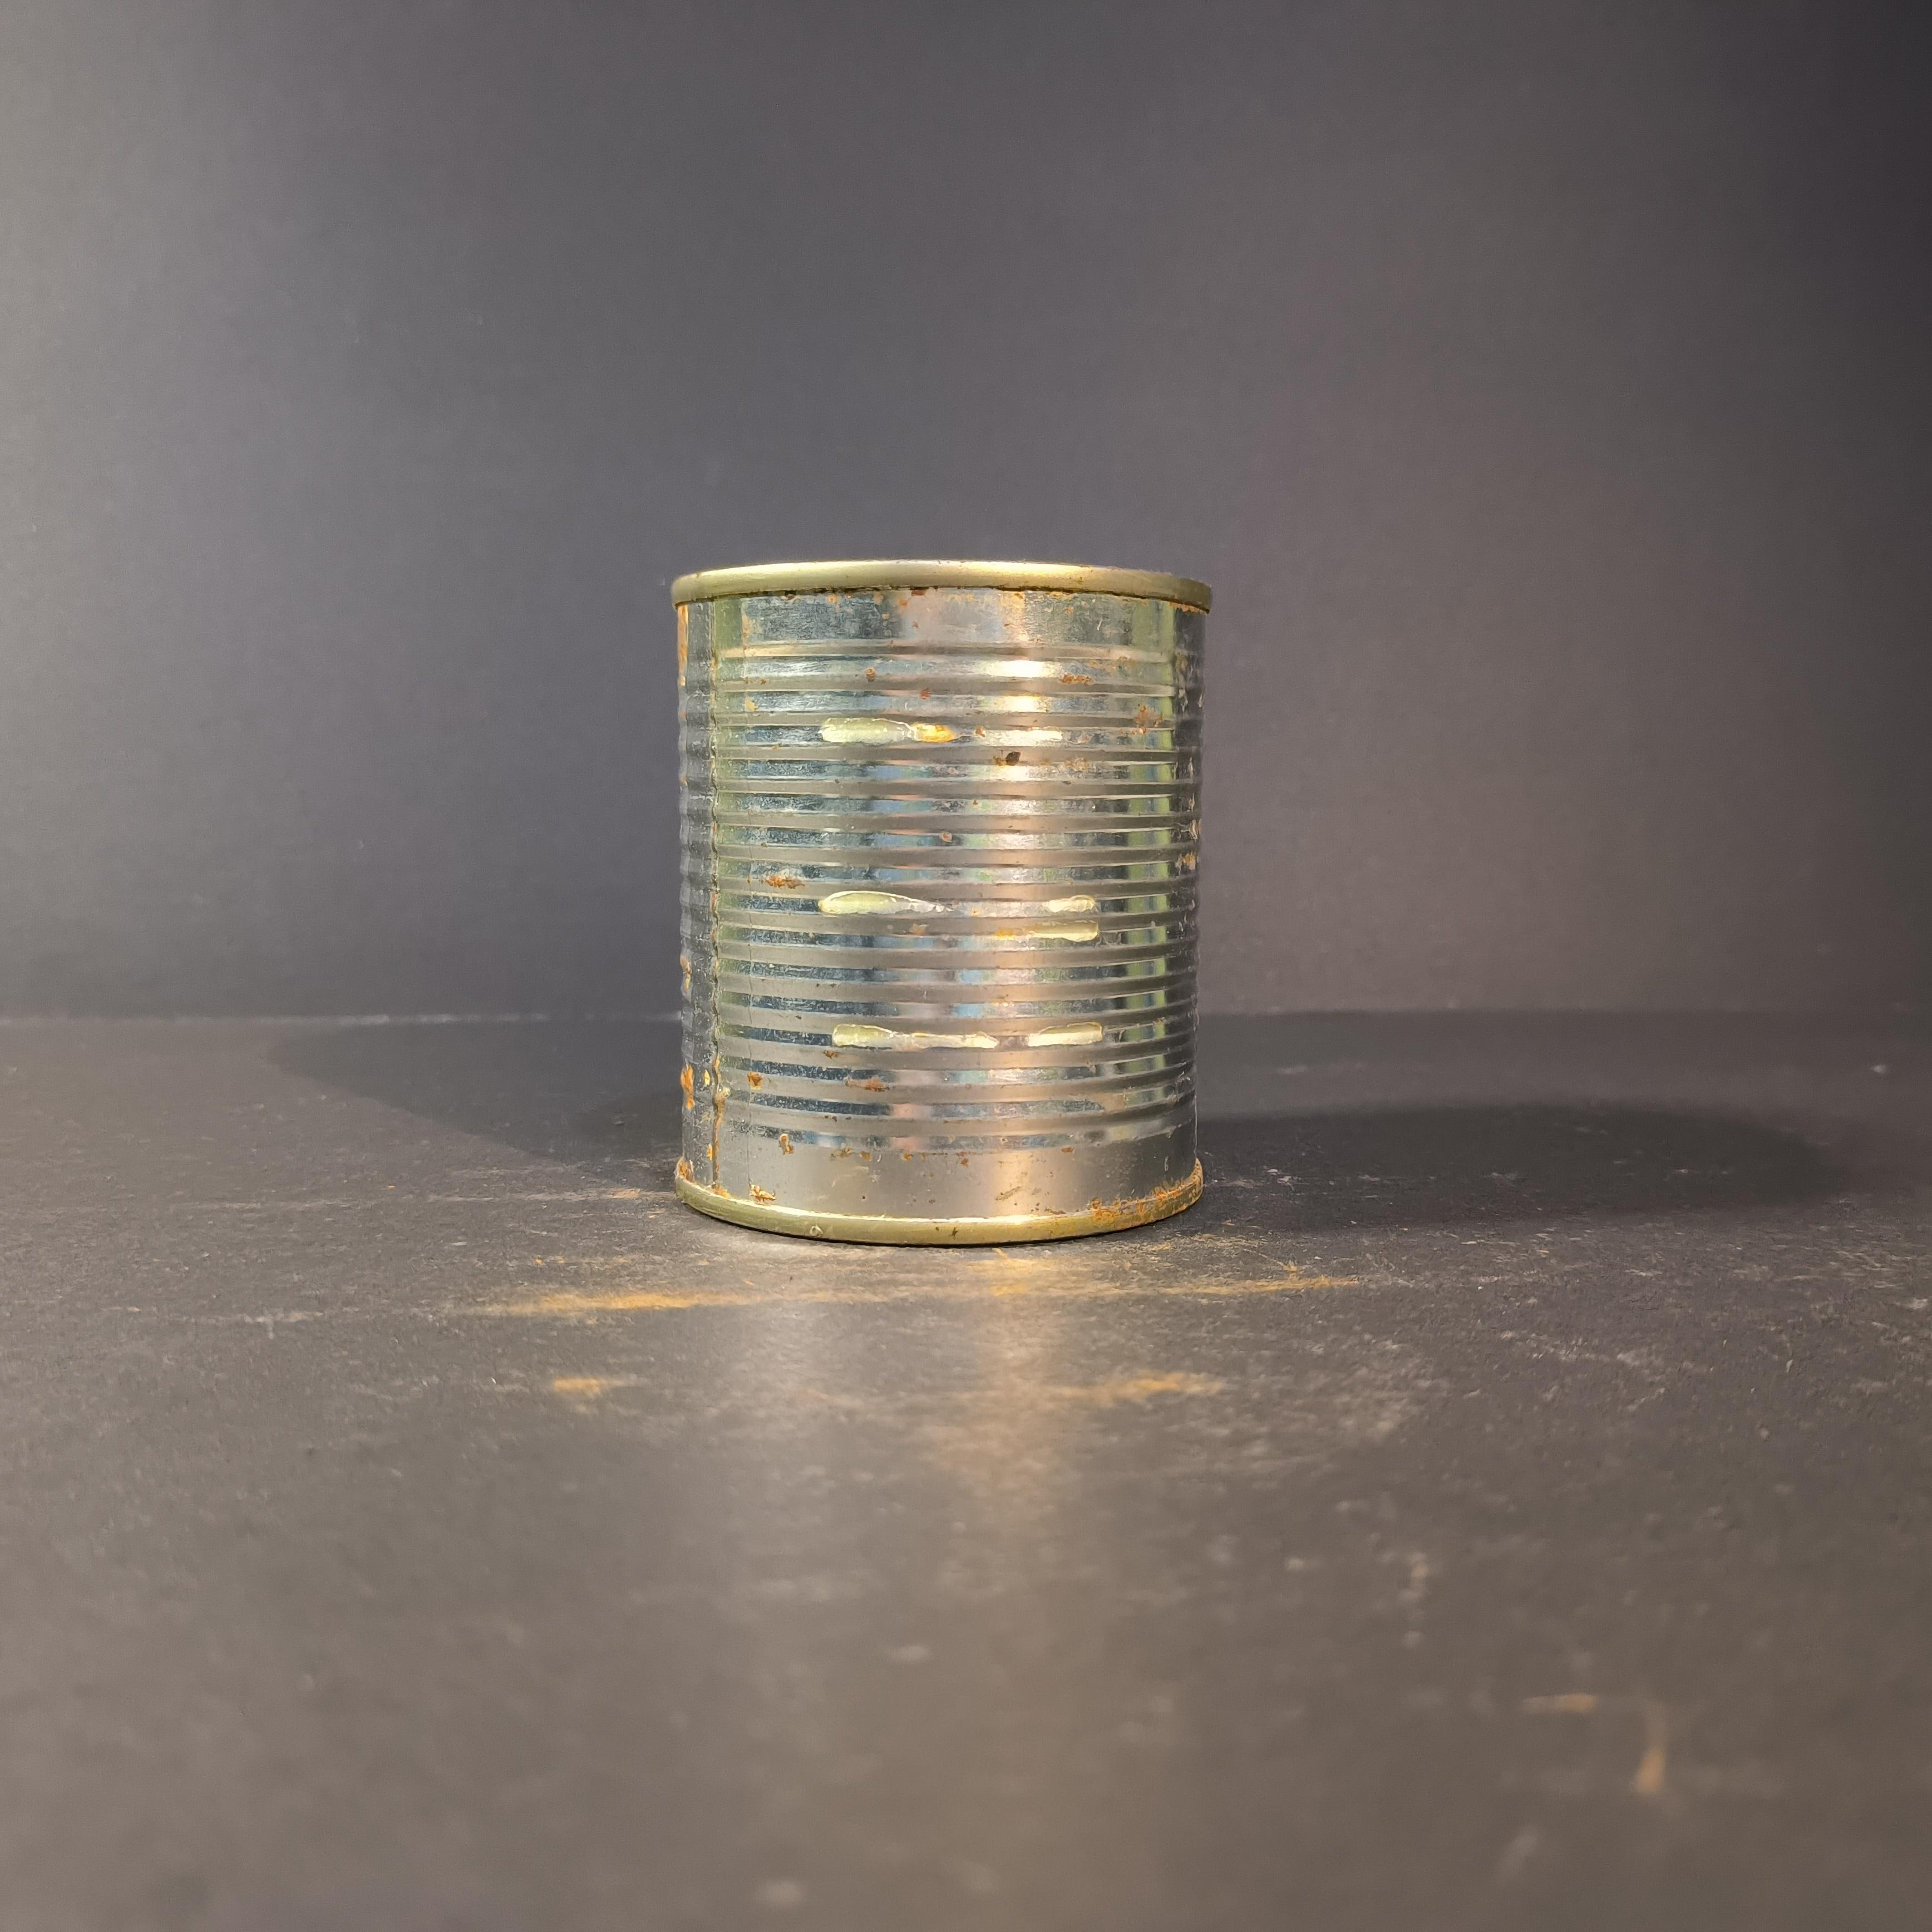Rusted: (651, 531, 1246, 1263)
